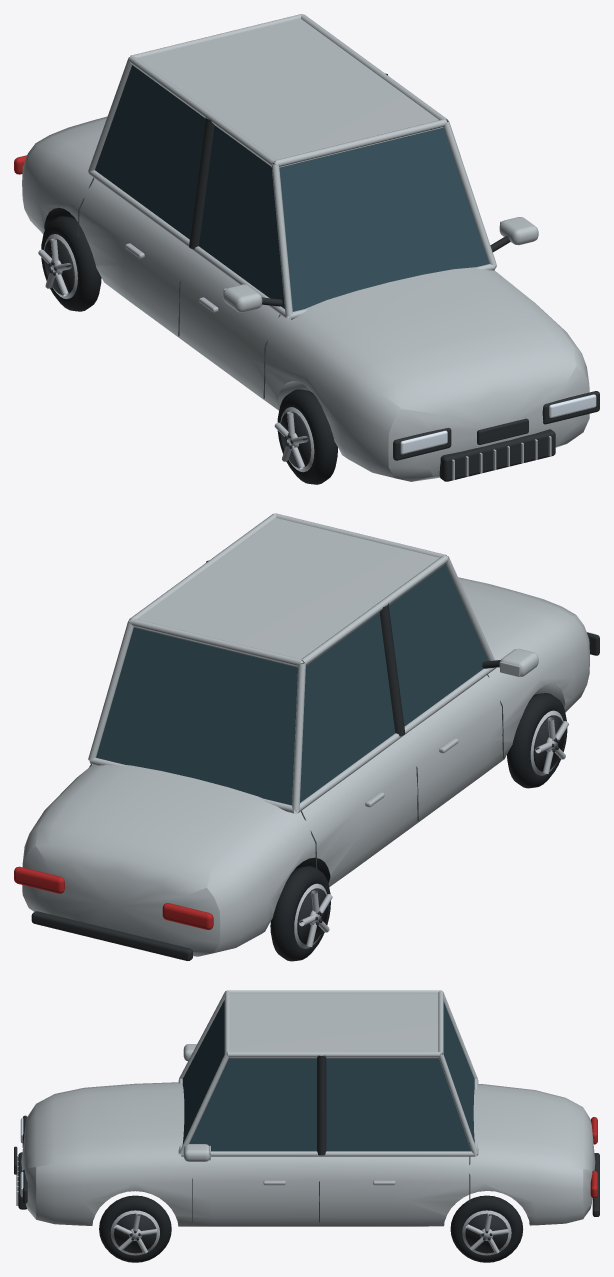
File: vehicle-van-lod1.glb
The picture shows the model from 3 angles, top to bottom: view 1: azimuth 30°, elevation 25°; view 2: azimuth 150°, elevation 25°; view 3: azimuth 270°, elevation 25°; orthographic projection. The views are drawn at different scales.
Parts seen in each view (by area): view 1: vehicle-van_MATERIAL_BATCH; view 2: vehicle-van_MATERIAL_BATCH; view 3: vehicle-van_MATERIAL_BATCH.
Part boxes in pixels (x1=…): vehicle-van_MATERIAL_BATCH: x1=14, y1=14, x2=599, y2=484; vehicle-van_MATERIAL_BATCH: x1=14, y1=513, x2=599, y2=961; vehicle-van_MATERIAL_BATCH: x1=14, y1=990, x2=599, y2=1262.
Size of the model in its own units: 2.32 by 1.97 by 5.24.
